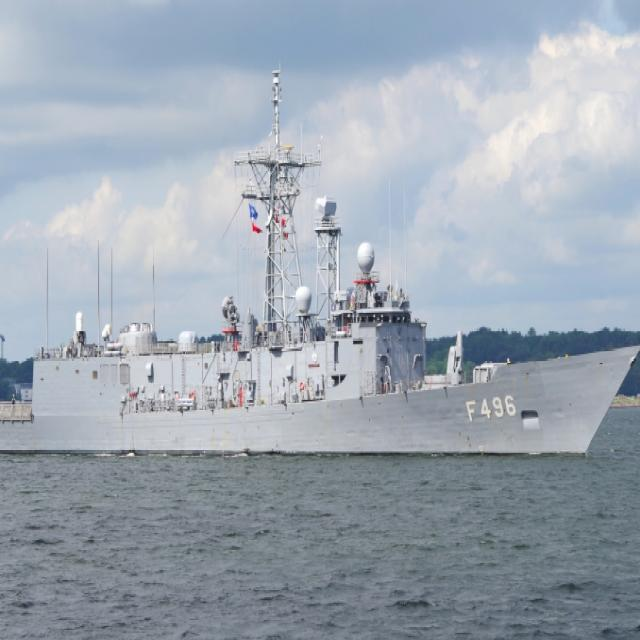Fragata: (1, 54, 640, 461)
